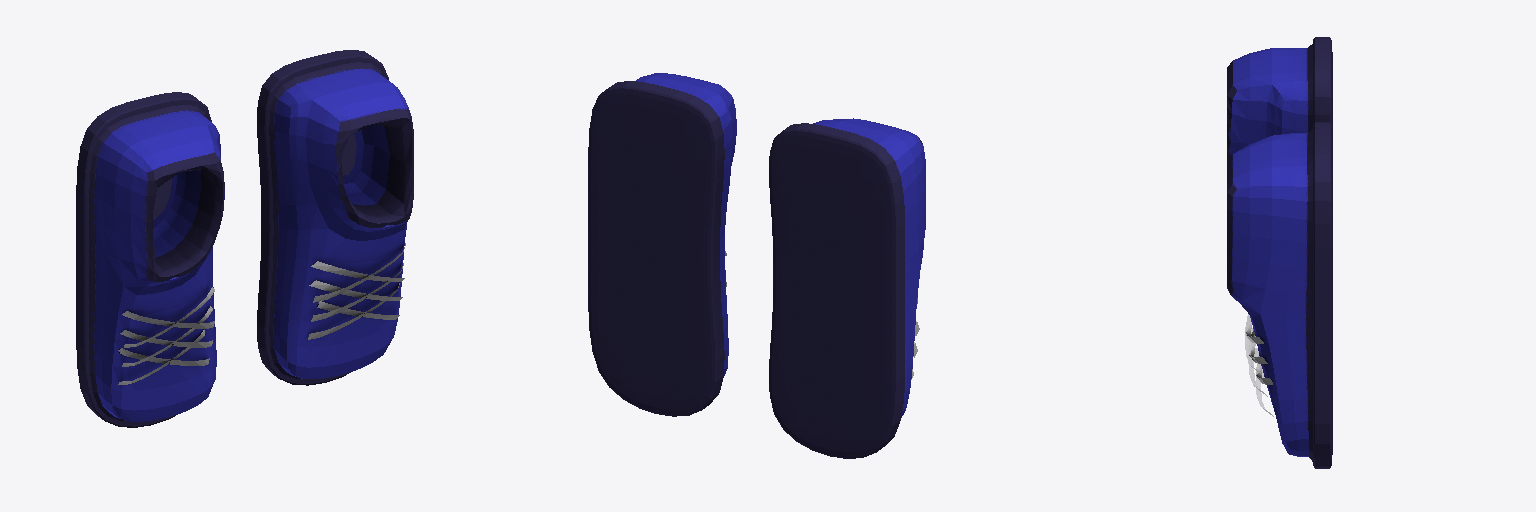
3 renders of one model, left to right at view 1: azimuth 30°, elevation 25°; view 2: azimuth 150°, elevation 25°; view 3: azimuth 270°, elevation 25°, orthographic.
Parts seen in each view (by area): view 1: Box003we; view 2: Box003we; view 3: Box003we.
Boxes of the visible parts, x1,y1,x2,y2 form: Box003we: [76, 50, 413, 427]; Box003we: [588, 73, 925, 458]; Box003we: [1227, 37, 1332, 468].
Size of the model in its own units: 38.81 by 38.56 by 11.55.
Materials: 1 (1 with a texture image).